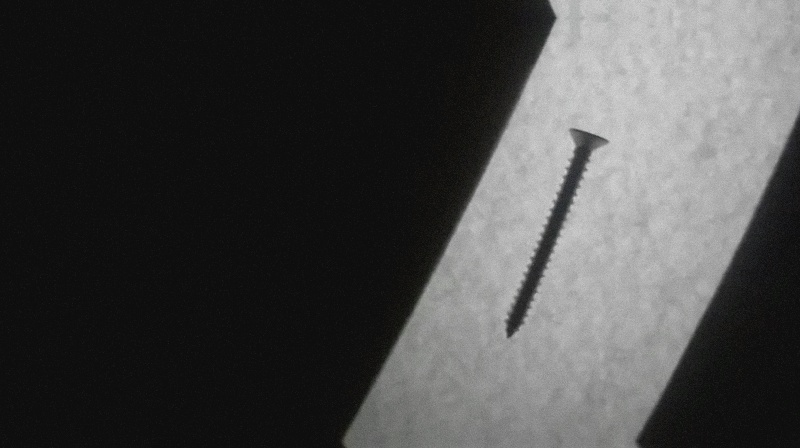S002: (502, 122, 613, 340)
